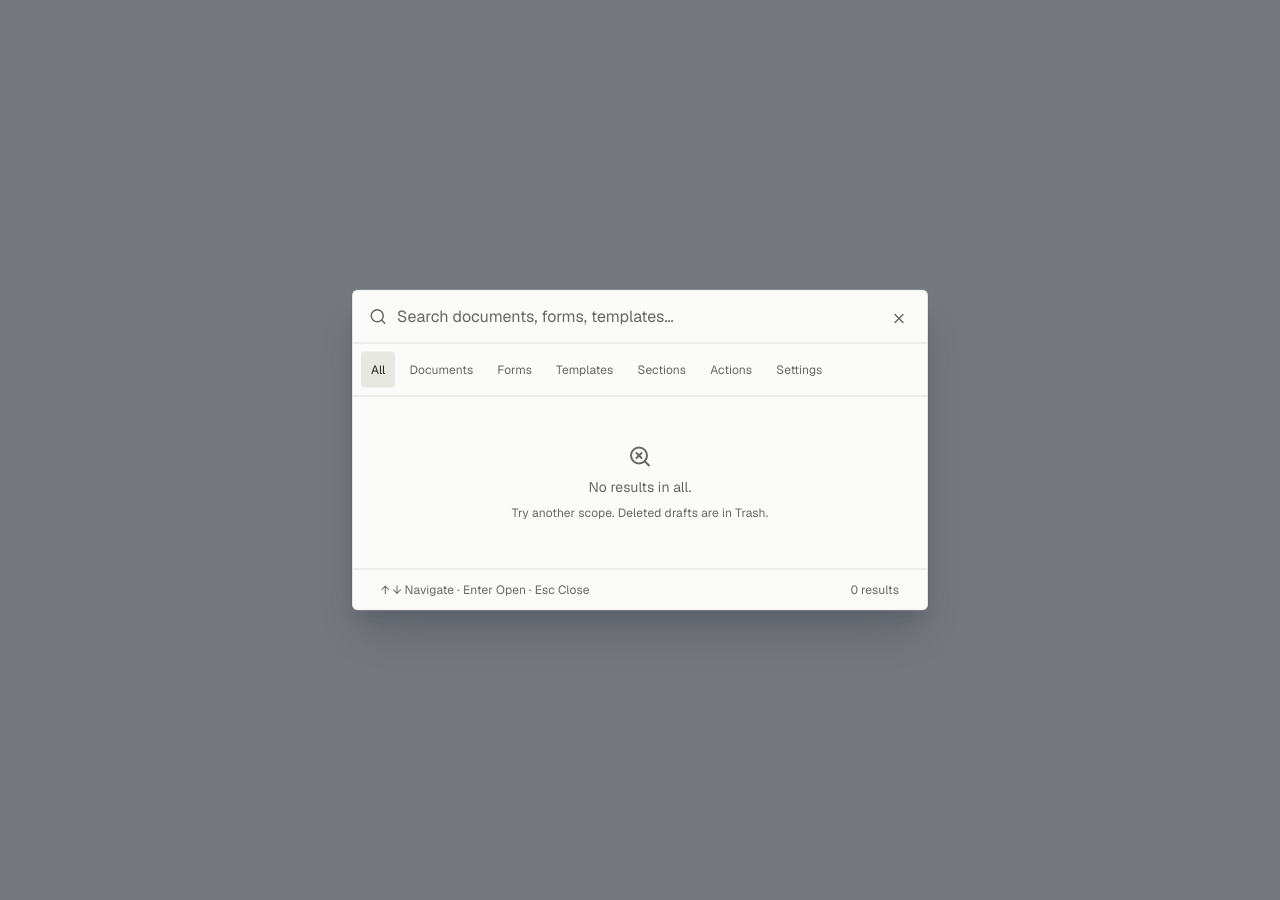
it: does not describe an empty command scope as unsaved work
The image size is (1280, 900).
Click the button "Sections" at (662, 370), box 627,352 -> 696,388
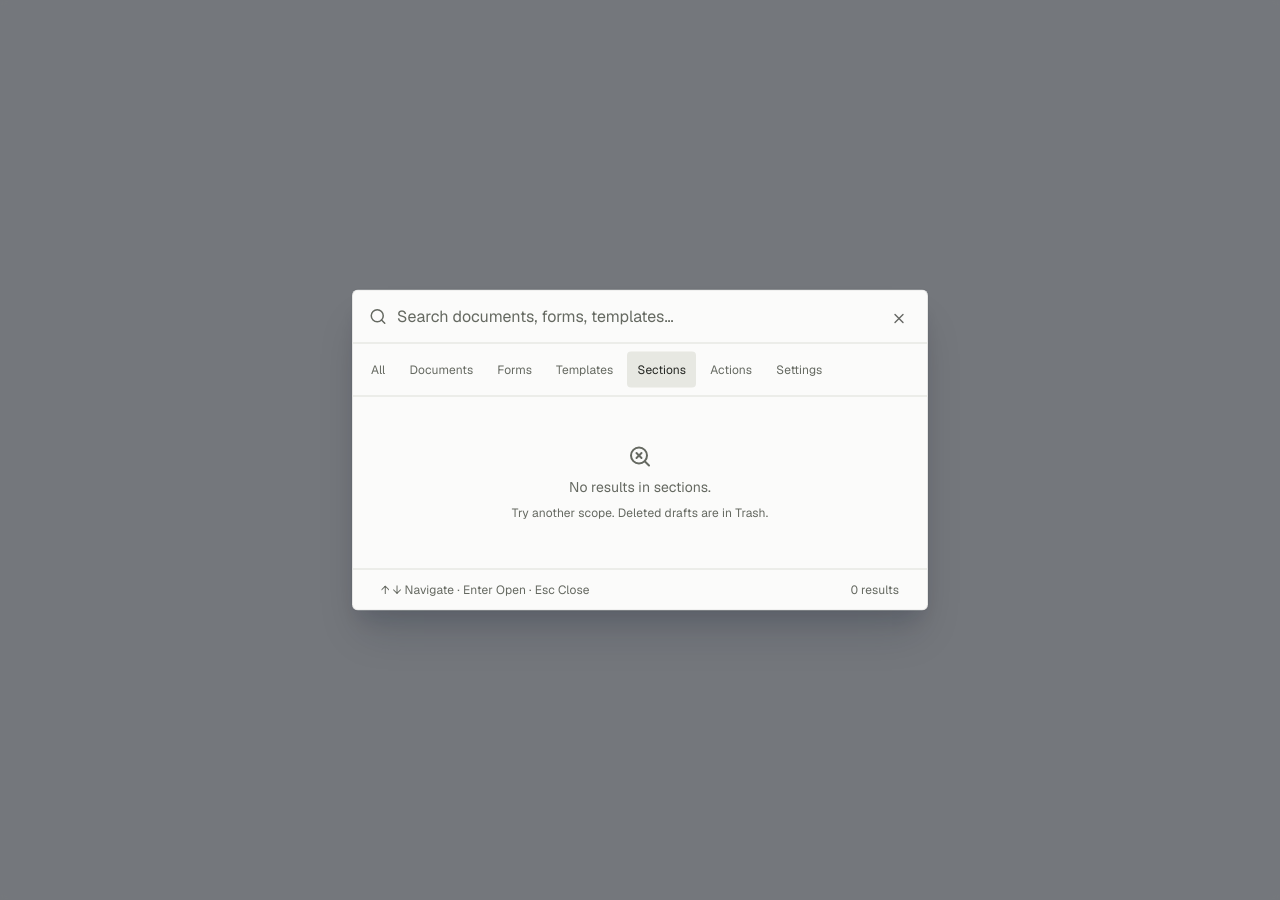
Expected: the text "No results in sections." is shown, 569,476 -> 711,496
